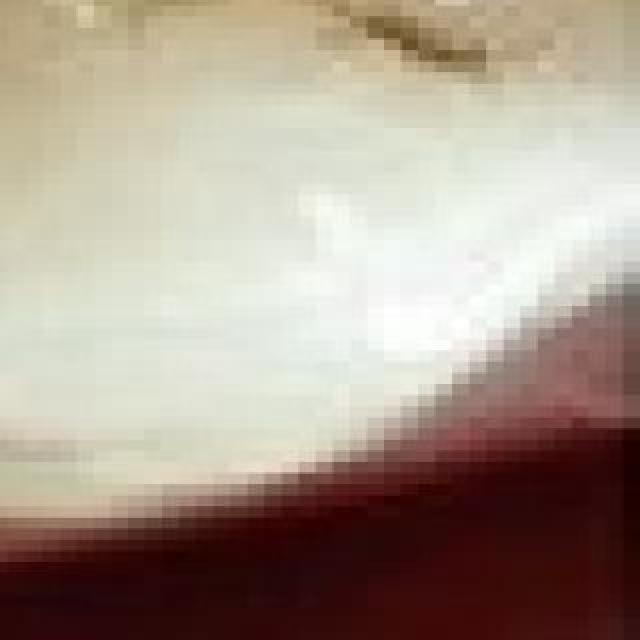cavities: (158, 0, 536, 136)
